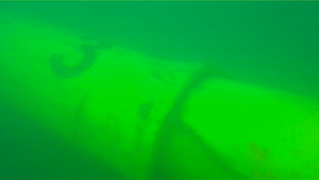3: (49, 35, 114, 78)
pipe: (1, 7, 319, 180)
